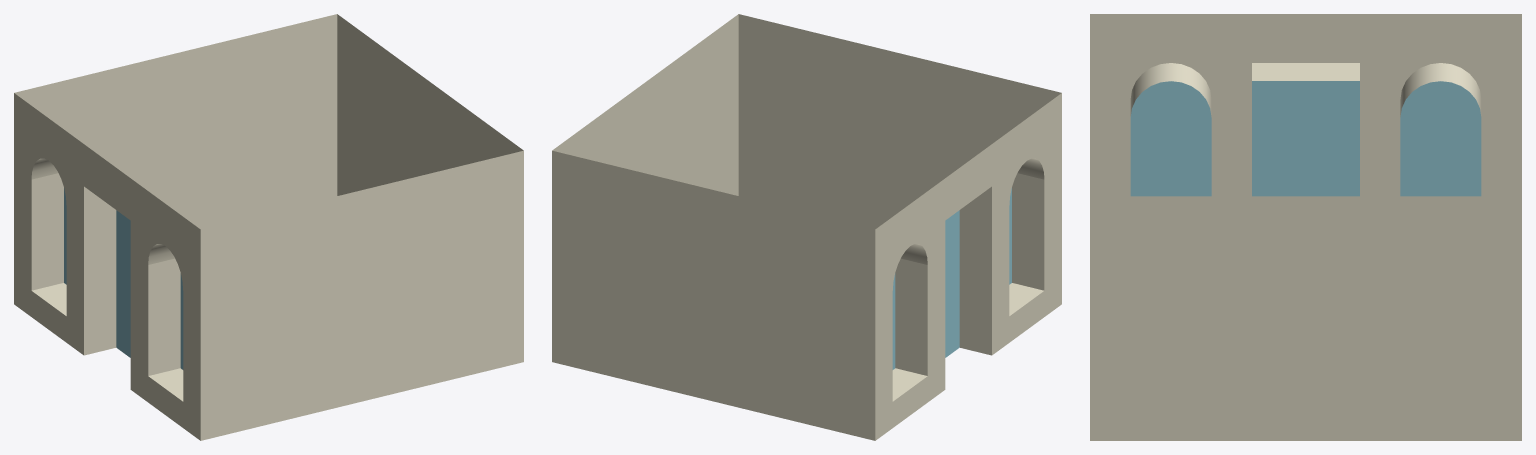
Rendered from modularBuildings_053.obj.
3 renders of one model, left to right at view 1: azimuth 30°, elevation 25°; view 2: azimuth 150°, elevation 25°; view 3: azimuth 270°, elevation 25°, orthographic. The views are drawn at different scales.
Parts seen in each view (by area): view 1: modularBuildings_053; view 2: modularBuildings_053; view 3: modularBuildings_053.
Boxes of the visible parts, bbox=[...] form: modularBuildings_053: bbox=[14, 14, 523, 440]; modularBuildings_053: bbox=[552, 14, 1061, 440]; modularBuildings_053: bbox=[1090, 14, 1521, 440].
Size of the model in its own units: 1 by 0.625 by 1.
